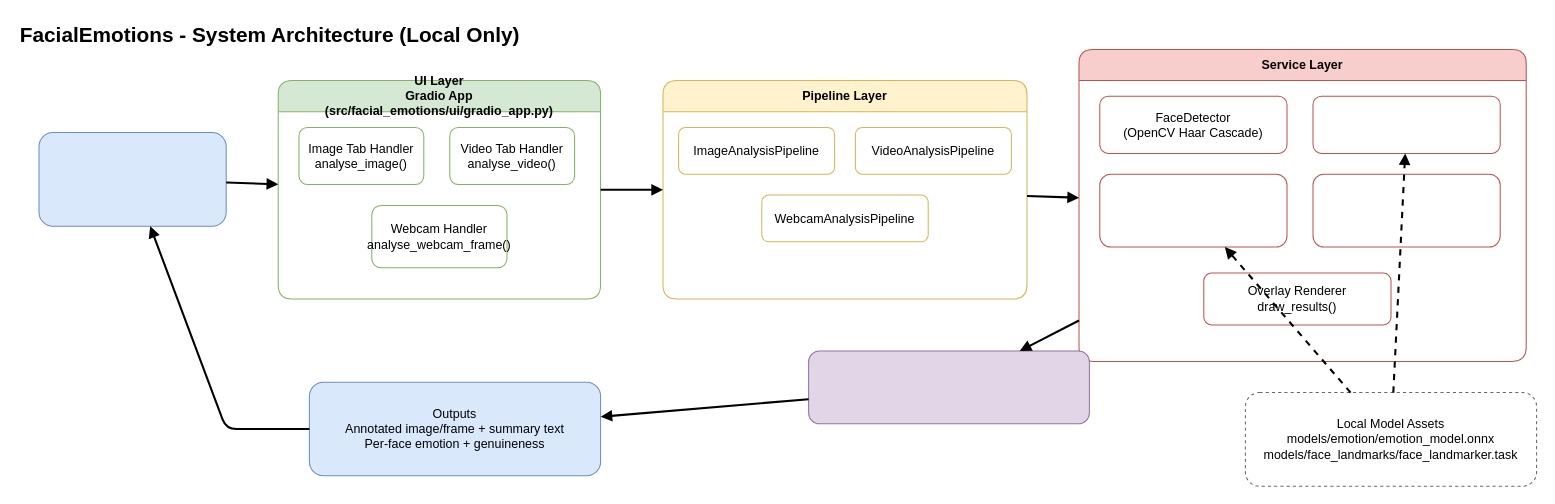
Some shapes in this 1555 by 504 pixel diagram are drawn without their labels. Each missing label, with the centre of its shape:
"Contracts + Domain Models (results.py, domain/models.py)" goes at [948,387].
"EmotionInferenceService (ONNX Runtime)" goes at [1406,124].
"GenuinenessAssessmentService (Duchenne heuristics)" goes at [1406,210].
"LandmarkExtractor (MediaPipe task / geometry fallback)" goes at [1193,210].
"User (Image / Video Upload Webcam Stream)" goes at [132,179].
